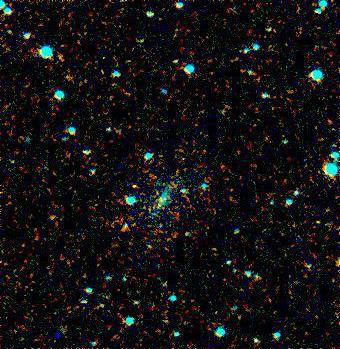star: (119, 174, 149, 204)
